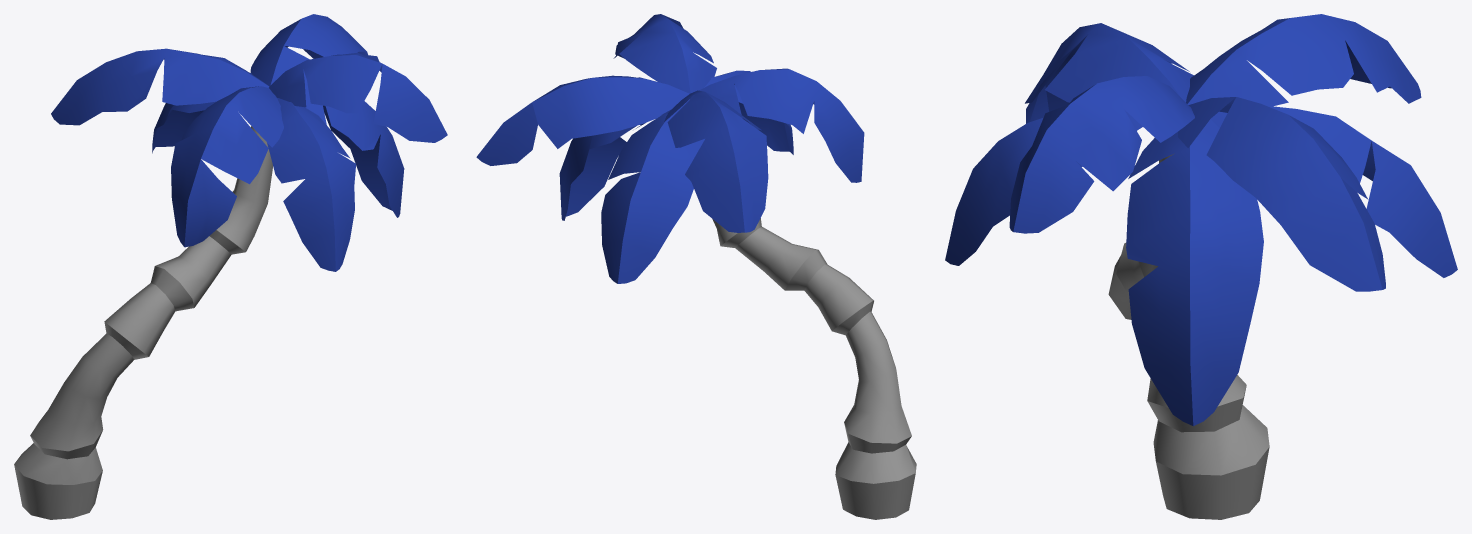
Rendered from Palm_03_mm.fbx.
3 renders of one model, left to right at view 1: azimuth 30°, elevation 25°; view 2: azimuth 150°, elevation 25°; view 3: azimuth 270°, elevation 25°, orthographic. The views are drawn at different scales.
Parts seen in each view (by area): view 1: Palm_03; view 2: Palm_03; view 3: Palm_03.
Boxes of the visible parts, x1,y1,x2,y2 form: Palm_03: (14, 14, 447, 519); Palm_03: (476, 14, 916, 519); Palm_03: (945, 14, 1457, 519).
Bounding box in the file's own units: 359 × 360 × 282.
